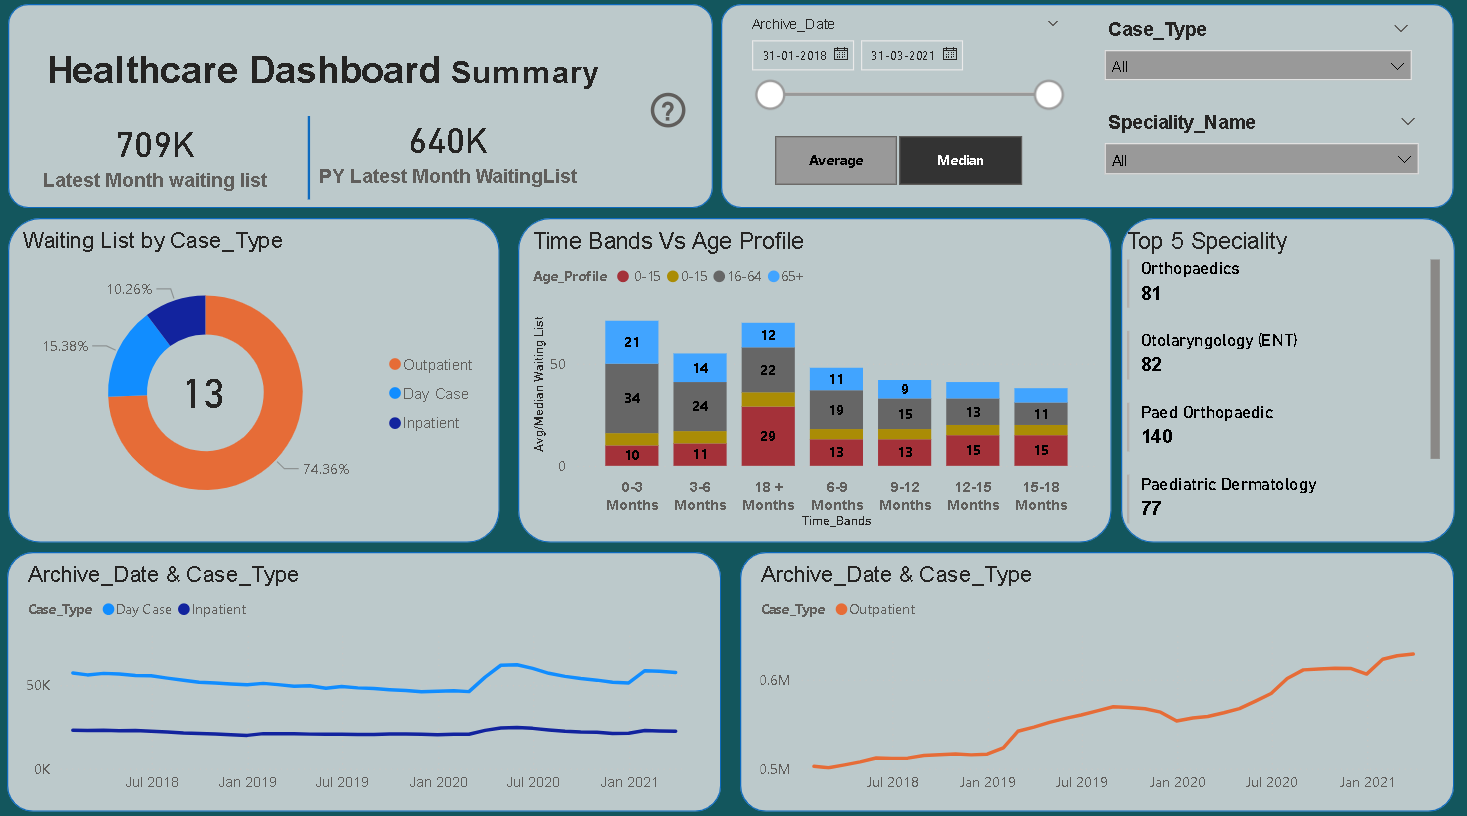

What the dashboard file says about the page in this screenshot:
{"tool":"powerbi","page":{"name":"Dashboard","canvas":[1280,720],"ordinal":0},"visuals":[{"type":"shape","box":[631.7,7.8,632,176],"z":0,"group":"g3"},{"type":"shape","box":[16,8,608,176],"z":0},{"type":"shape","box":[648,480,616,224],"z":0,"group":"g2"},{"type":"shape","box":[16,192,424,280],"z":1000,"group":"g5"},{"type":"shape","box":[976,192,288,280],"z":1000},{"type":"shape","box":[15.6,480.5,616,224],"z":1000,"group":"g1"},{"type":"card","fields":{"Values":["Measure (2).Latest Month waiting list"]},"box":[21.2,96.6,243.9,79.4],"z":2000,"group":"g4"},{"type":"shape","box":[456,192,512,280],"z":2000},{"type":"card","fields":{"Values":["Measure (2).Avg/Median Waiting List"]},"box":[136,312,96,56],"z":2000,"group":"g5"},{"type":"card","fields":{"Values":["Measure (2).PY latest Month WaitingList"]},"box":[274.2,91.6,243.9,82.4],"z":3000,"group":"g4"},{"type":"donutChart","title":"Waiting List by Case_Type","fields":{"Category":["Patient_data.Case_Type"],"Y":["Measure (2).Avg/Median Waiting List"]},"box":[24,200,408,264],"z":3000,"group":"g5"},{"type":"multiRowCard","title":"Top 5 Speciality","fields":{"Values":["Patient_data.Speciality_Name","Measure (2).Avg/Median Waiting List"]},"box":[976,200,280,264],"z":3000},{"type":"slicer","fields":{"Values":["Calculation table.Calculation Method"]},"box":[652.7,114.9,262.6,56.4],"z":4000,"group":"g3"},{"type":"columnChart","title":"Time Bands Vs Age Profile","fields":{"Y":["Measure (2).Avg/Median Waiting List"],"Category":["Patient_data.Time_Bands"],"Series":["Patient_data.Age_Profile"]},"box":[464,200,496,264],"z":4000},{"type":"card","fields":{"Values":["Measure (2).NO Selection left"]},"box":[69.1,561.2,470.8,61.3],"z":4500,"group":"g1"},{"type":"card","fields":{"Values":["Measure (2).No Selection Right"]},"box":[724.6,561.2,451.3,61.3],"z":4500,"group":"g2"},{"type":"group","id":"g1","title":"Group 1","box":[15.6,480.5,616,224],"z":5000},{"type":"group","id":"g2","title":"Group 2","box":[648,480,616,224],"z":6000},{"type":"group","id":"g3","title":"Group 5","box":[631.7,7.8,632,176],"z":7000},{"type":"slicer","fields":{"Values":["Patient_data.Archive_Date"]},"box":[645.9,11.8,289.8,99.2],"z":7000,"group":"g3"},{"type":"slicer","fields":{"Values":["Patient_data.Case_Type"]},"box":[952.9,15.8,285,72],"z":8000,"group":"g3"},{"type":"group","id":"g4","title":"Group 6","box":[16,24,536,152],"z":8000},{"type":"lineChart","title":" Archive_Date & Case_Type","fields":{"Category":["Patient_data.Archive_Date"],"Y":["Sum(Patient_data.Total)"],"Series":["Patient_data.Case_Type"]},"box":[23.6,488.5,600,208],"z":8000,"group":"g1"},{"type":"slicer","fields":{"Values":["Patient_data.Speciality_Name"]},"box":[952.9,95.6,290.8,76.8],"z":9000,"group":"g3"},{"type":"shape","box":[264,104,24,72],"z":9000},{"type":"lineChart","title":" Archive_Date & Case_Type","fields":{"Category":["Patient_data.Archive_Date"],"Y":["Sum(Patient_data.Total)"],"Series":["Patient_data.Case_Type"]},"box":[656,488,600,208],"z":9000,"group":"g2"},{"type":"textbox","box":[16,24,544,71.6],"z":10000,"group":"g4"},{"type":"group","id":"g5","title":"Group 3","box":[16,192,424,280],"z":10000},{"type":"actionButton","box":[566.1,79.8,44.7,39.9],"z":11000}]}

Visuals, with their boxes in screenshot pixels (x1, y1, x2, y2), scaled from the page's 1280x720 canvas onto the 1467x816 screenshot:
shape: <bbox>724, 9, 1448, 208</bbox>
shape: <bbox>18, 9, 715, 209</bbox>
shape: <bbox>743, 544, 1449, 798</bbox>
shape: <bbox>18, 218, 504, 535</bbox>
shape: <bbox>1119, 218, 1449, 535</bbox>
shape: <bbox>18, 545, 724, 798</bbox>
card - Measure (2).Latest Month waiting list: <bbox>24, 109, 304, 199</bbox>
shape: <bbox>523, 218, 1109, 535</bbox>
card - Measure (2).Avg/Median Waiting List: <bbox>156, 354, 266, 417</bbox>
card - Measure (2).PY latest Month WaitingList: <bbox>314, 104, 594, 197</bbox>
"Waiting List by Case_Type" donutChart: <bbox>28, 227, 495, 526</bbox>
"Top 5 Speciality" multiRowCard: <bbox>1119, 227, 1439, 526</bbox>
slicer - Calculation table.Calculation Method: <bbox>748, 130, 1049, 194</bbox>
"Time Bands Vs Age Profile" columnChart: <bbox>532, 227, 1100, 526</bbox>
card - Measure (2).NO Selection left: <bbox>79, 636, 619, 706</bbox>
card - Measure (2).No Selection Right: <bbox>830, 636, 1348, 706</bbox>
"Group 1" group: <bbox>18, 545, 724, 798</bbox>
"Group 2" group: <bbox>743, 544, 1449, 798</bbox>
"Group 5" group: <bbox>724, 9, 1448, 208</bbox>
slicer - Patient_data.Archive_Date: <bbox>740, 13, 1072, 126</bbox>
slicer - Patient_data.Case_Type: <bbox>1092, 18, 1419, 100</bbox>
"Group 6" group: <bbox>18, 27, 633, 199</bbox>
" Archive_Date & Case_Type" lineChart: <bbox>27, 554, 715, 789</bbox>
slicer - Patient_data.Speciality_Name: <bbox>1092, 108, 1425, 195</bbox>
shape: <bbox>303, 118, 330, 199</bbox>
" Archive_Date & Case_Type" lineChart: <bbox>752, 553, 1439, 789</bbox>
textbox: <bbox>18, 27, 642, 108</bbox>
"Group 3" group: <bbox>18, 218, 504, 535</bbox>
actionButton: <bbox>649, 90, 700, 136</bbox>
